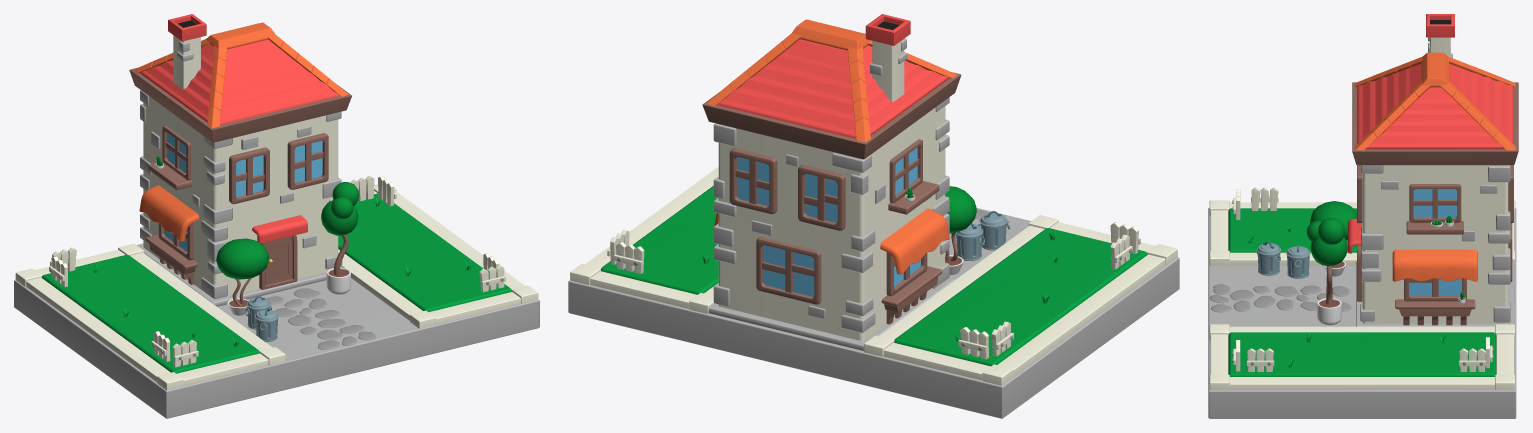
Rendered from Town_Island_1.glb.
3 renders of one model, left to right at view 1: azimuth 30°, elevation 25°; view 2: azimuth 150°, elevation 25°; view 3: azimuth 270°, elevation 25°, orthographic. The views are drawn at different scales.
Parts seen in each view (by area): view 1: Town_1_House_1, Town_1_Base_1, Town_1_Ground_2, Town_1_Ground_1, Town_1_Plant_6, Town_1_Path_1, Town_1_Plant_5, Town_1_Trash_Can_2, Town_1_Fence_5, Town_1_Fence_2; view 2: Town_1_House_1, Town_1_Ground_2, Town_1_Base_1, Town_1_Ground_1, Town_1_Plant_5, Town_1_Trash_Can_2, Town_1_Trash_Can_1, Town_1_Fence_8, Town_1_Fence_1; view 3: Town_1_House_1, Town_1_Ground_1, Town_1_Base_1, Town_1_Ground_2, Town_1_Plant_6, Town_1_Path_1, Town_1_Plant_5, Town_1_Trash_Can_1, Town_1_Trash_Can_2, Town_1_Fence_3, Town_1_Fence_4, Town_1_Fence_6.
Part boxes in pixels (x1,y1,x2,y2): Town_1_House_1: (129,14,351,306); Town_1_Base_1: (14,278,539,418); Town_1_Ground_2: (15,243,285,390); Town_1_Ground_1: (338,184,538,328); Town_1_Plant_6: (321,182,359,294); Town_1_Path_1: (266,288,375,349); Town_1_Plant_5: (216,238,269,315); Town_1_Trash_Can_2: (254,308,278,341); Town_1_Fence_5: (172,340,198,367); Town_1_Fence_2: (479,265,505,292); Town_1_House_1: (702,14,961,351); Town_1_Ground_2: (864,215,1177,385); Town_1_Base_1: (568,207,1179,418); Town_1_Ground_1: (570,167,718,313); Town_1_Plant_5: (945,186,976,275); Town_1_Trash_Can_2: (978,211,1009,250); Town_1_Trash_Can_1: (955,223,984,260); Town_1_Fence_8: (958,327,988,359); Town_1_Fence_1: (614,242,644,273); Town_1_House_1: (1348,14,1518,326); Town_1_Ground_1: (1209,324,1515,390); Town_1_Base_1: (1208,208,1516,418); Town_1_Ground_2: (1209,200,1515,265); Town_1_Plant_6: (1306,218,1347,325); Town_1_Path_1: (1210,284,1351,312); Town_1_Plant_5: (1310,201,1356,276); Town_1_Trash_Can_1: (1286,244,1310,278); Town_1_Trash_Can_2: (1257,241,1280,275); Town_1_Fence_3: (1246,348,1274,371); Town_1_Fence_4: (1459,348,1486,371); Town_1_Fence_6: (1251,187,1278,210).
Bounding box in the file's own units: 15.84 × 11.34 × 11.28.
29 materials, 29 textured.
